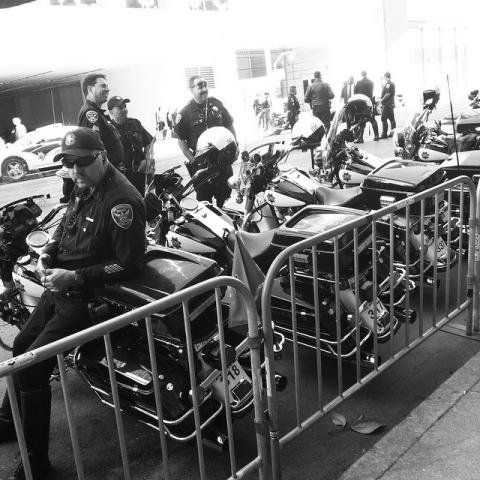car: (3, 123, 80, 179)
motorcycle: (1, 190, 289, 456), (142, 166, 417, 367), (227, 142, 458, 290), (319, 98, 447, 203), (389, 95, 480, 178), (454, 100, 480, 136)
